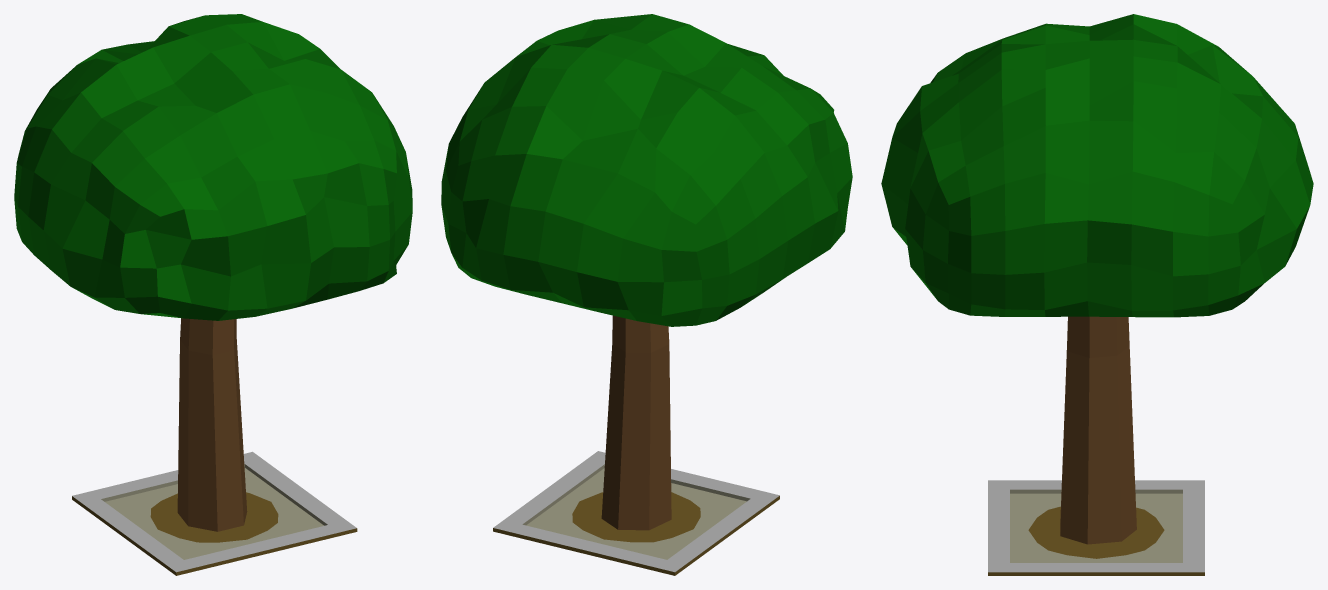
Rendered from SideWalk-T.glb.
The picture shows the model from 3 angles, left to right: view 1: azimuth 30°, elevation 25°; view 2: azimuth 150°, elevation 25°; view 3: azimuth 270°, elevation 25°; orthographic projection. The views are drawn at different scales.
Visible parts, largest first — view 1: Side-T; view 2: Side-T; view 3: Side-T.
Part boxes in pixels (x1=…): Side-T: x1=14, y1=14, x2=412, y2=575; Side-T: x1=441, y1=14, x2=852, y2=575; Side-T: x1=881, y1=14, x2=1313, y2=575.
Bounding box in the file's own units: 29.11 × 38.68 × 30.96.
